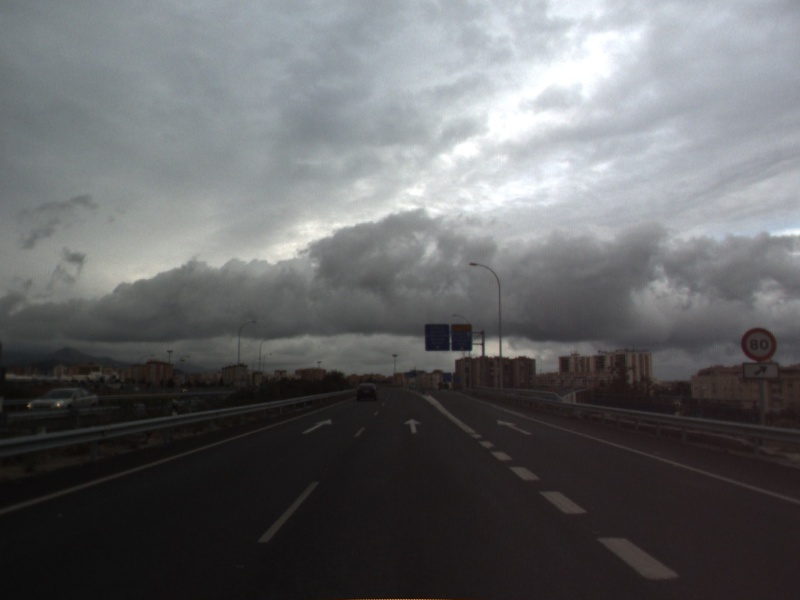STRAIGHT: (495, 418, 535, 437), (300, 417, 334, 436), (401, 417, 424, 435)
